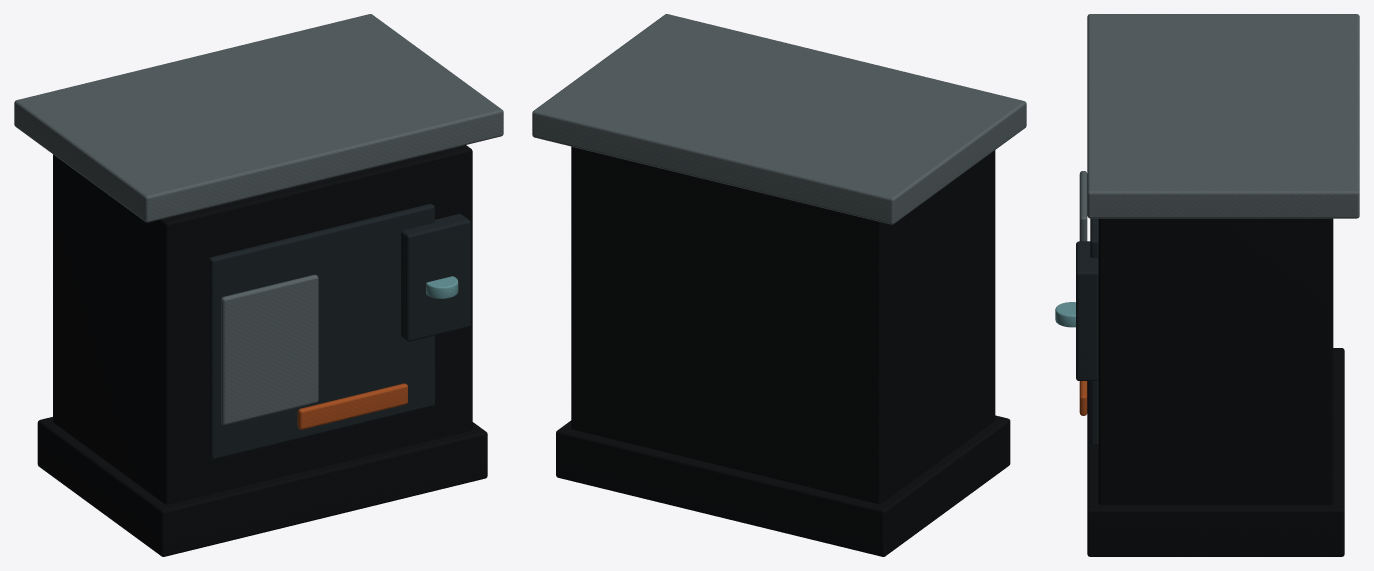
The model's file is PortableGenerator.fbx.
3 renders of one model, left to right at view 1: azimuth 30°, elevation 25°; view 2: azimuth 150°, elevation 25°; view 3: azimuth 270°, elevation 25°, orthographic. The views are drawn at different scales.
Parts seen in each view (by area): view 1: PortableGenerator_Mesh; view 2: PortableGenerator_Mesh; view 3: PortableGenerator_Mesh.
Part boxes in pixels (<box>): PortableGenerator_Mesh: <box>14,14,503,556</box>; PortableGenerator_Mesh: <box>532,14,1026,556</box>; PortableGenerator_Mesh: <box>1055,14,1359,556</box>.
Size of the model in its own units: 112 by 109 by 80.5.
